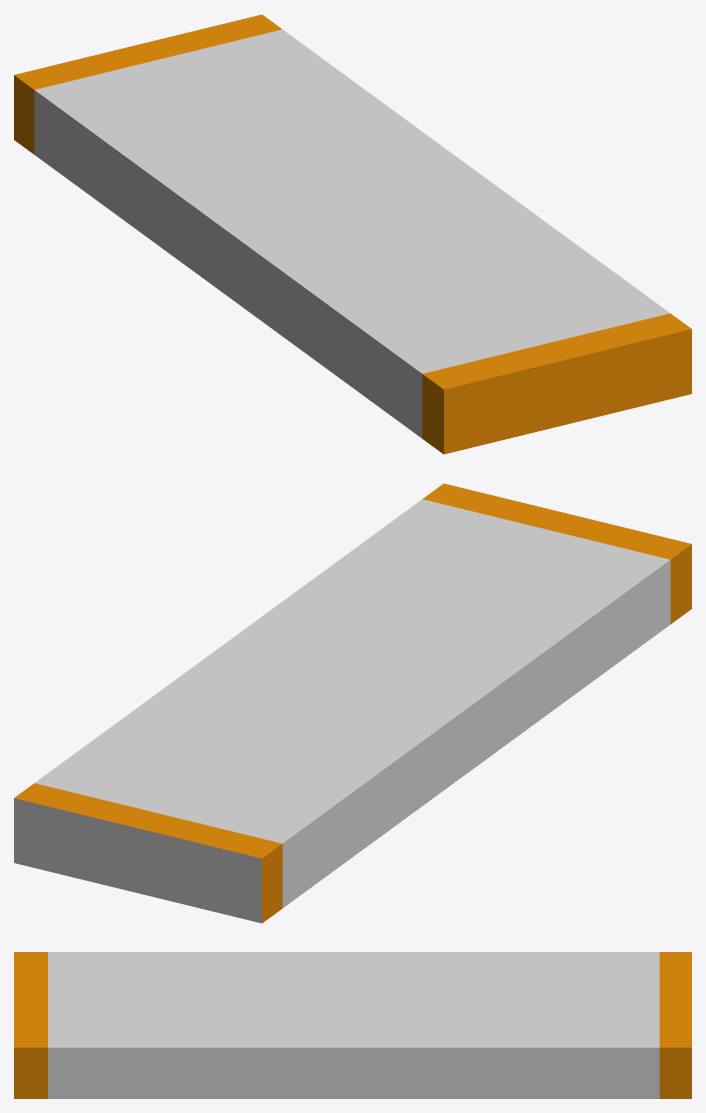
Rendered from wall.fbx.
The picture shows the model from 3 angles, top to bottom: view 1: azimuth 30°, elevation 25°; view 2: azimuth 150°, elevation 25°; view 3: azimuth 270°, elevation 25°; orthographic projection. The views are drawn at different scales.
Visible parts, largest first — view 1: Wall; view 2: Wall; view 3: Wall.
Boxes of the visible parts, <box> form: Wall: <box>14,14,691,454</box>; Wall: <box>14,483,691,923</box>; Wall: <box>14,952,691,1098</box>.
Size of the model in its own units: 100 by 25 by 300.
